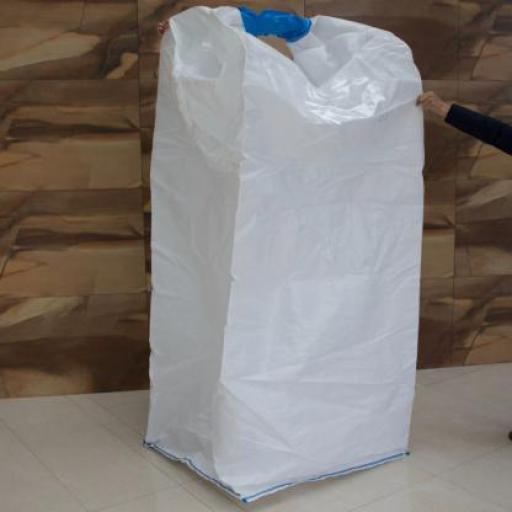plastic bag: (144, 3, 433, 512)
